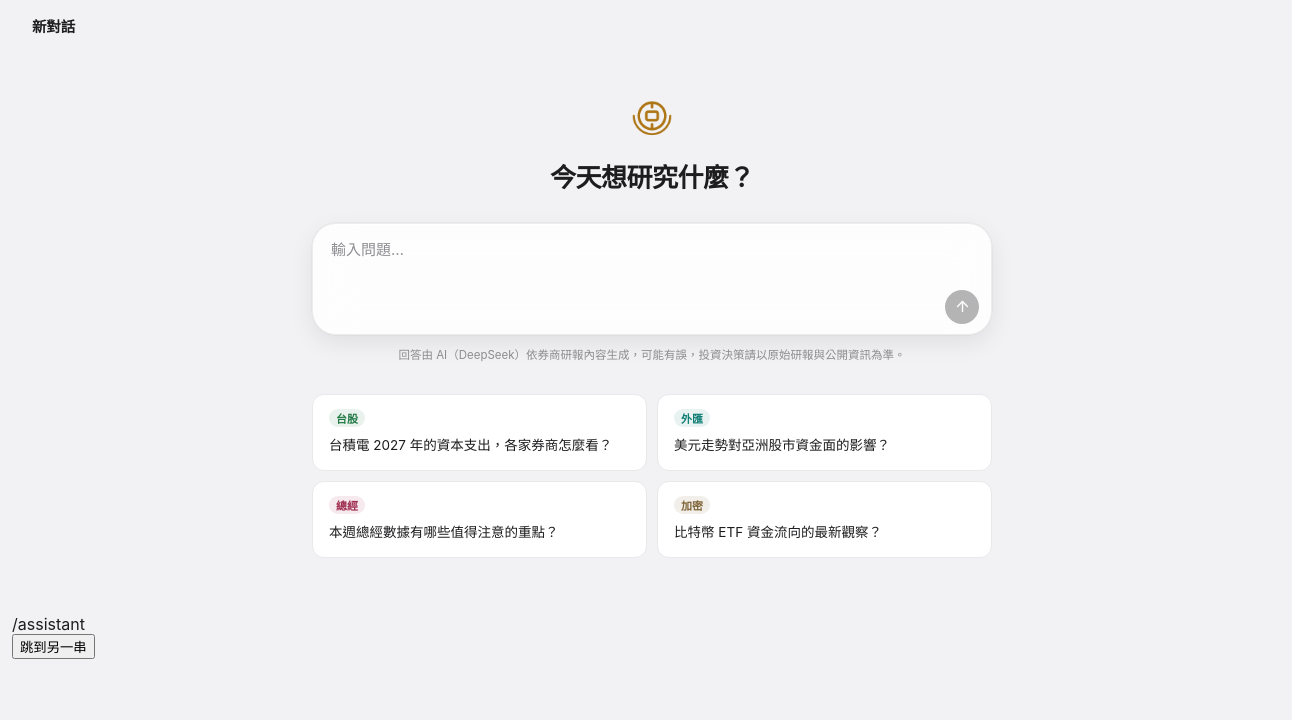
離題→Callout warning
The width and height of the screenshot is (1292, 720).
Type "今天天氣" into the text box labelled "輸入問題" at (655, 262), box 331,238 -> 979,286
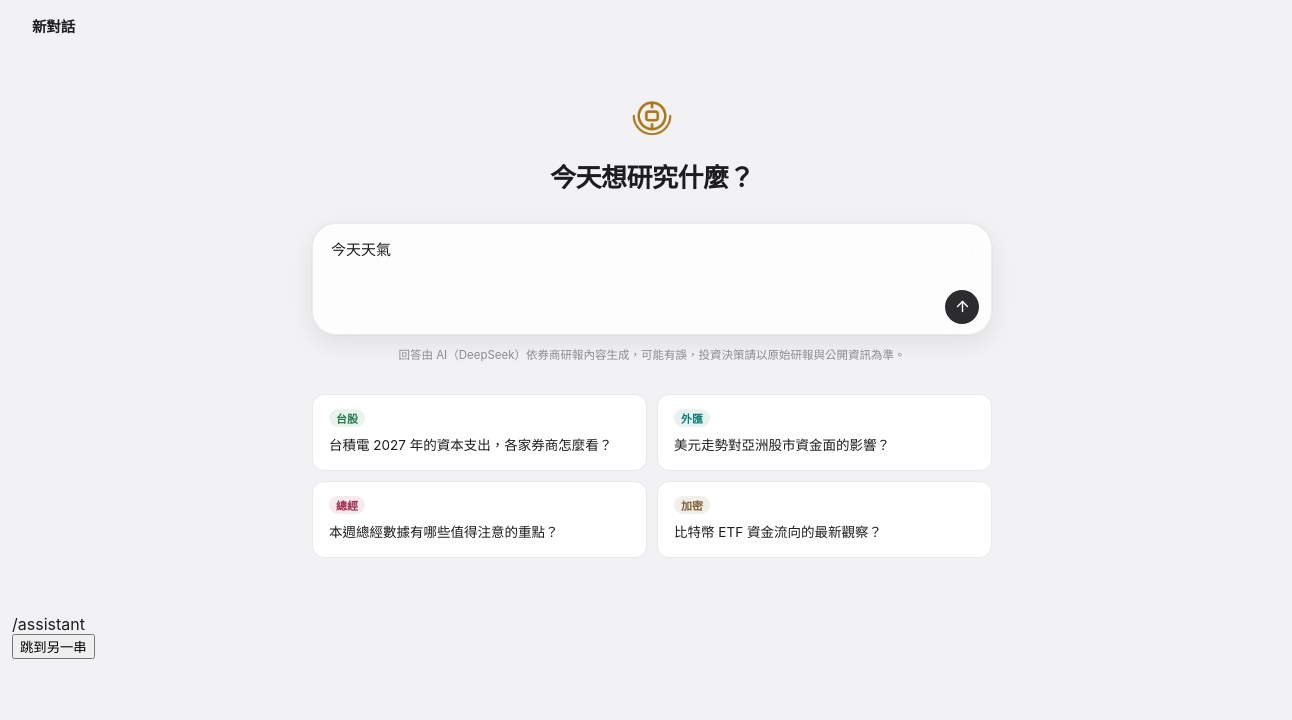
Press Enter in the text box named "輸入問題", box 331,238 -> 979,286
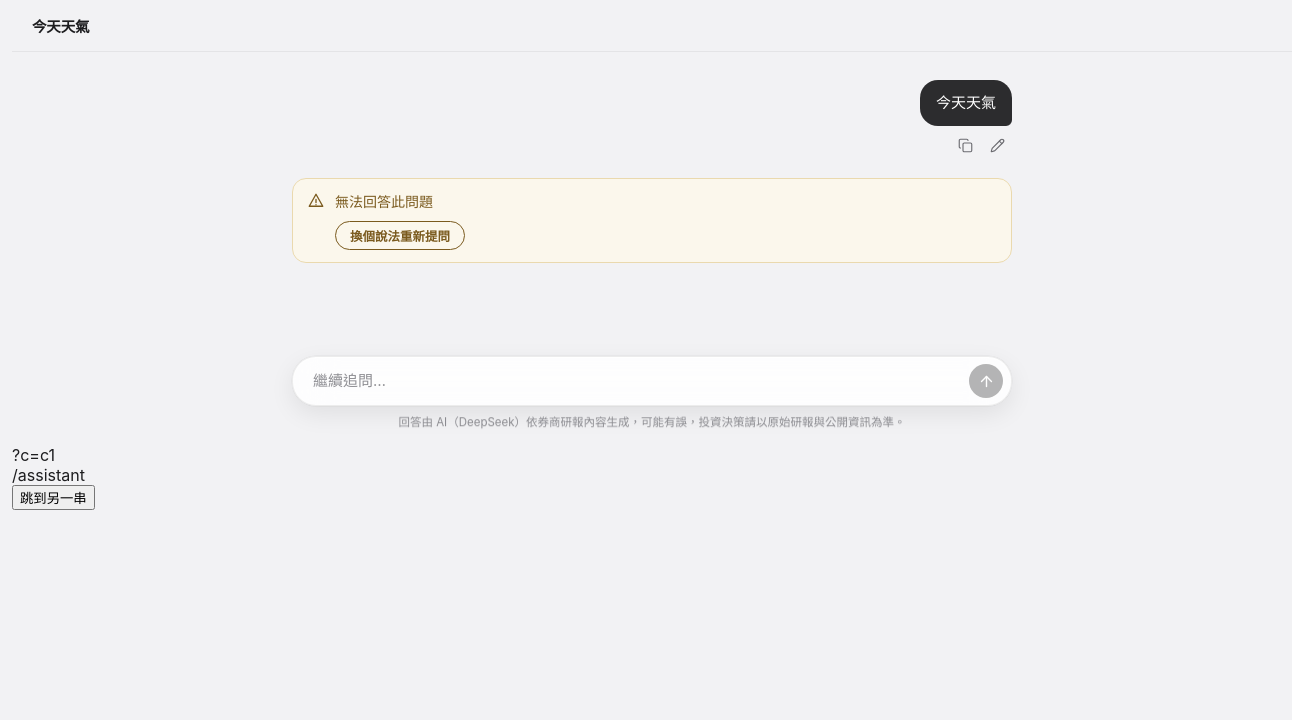
Now the message shows "無法回答此問題", box 335,193 -> 433,210
